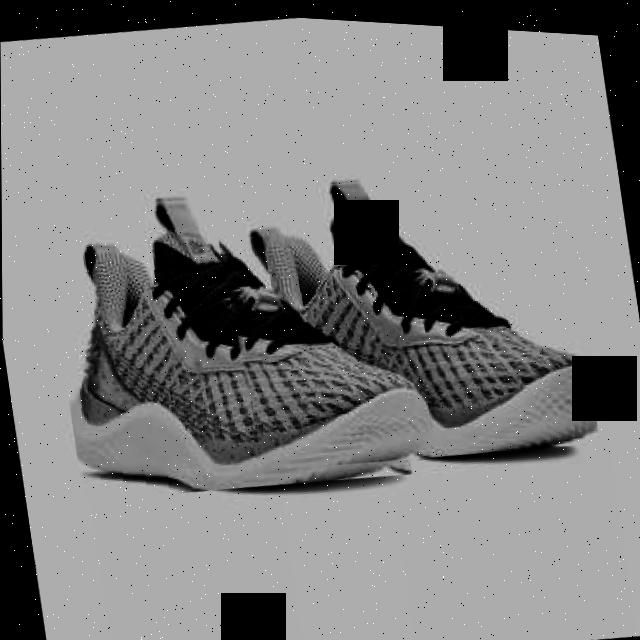shoe: (40, 157, 426, 516), (208, 139, 600, 486)
